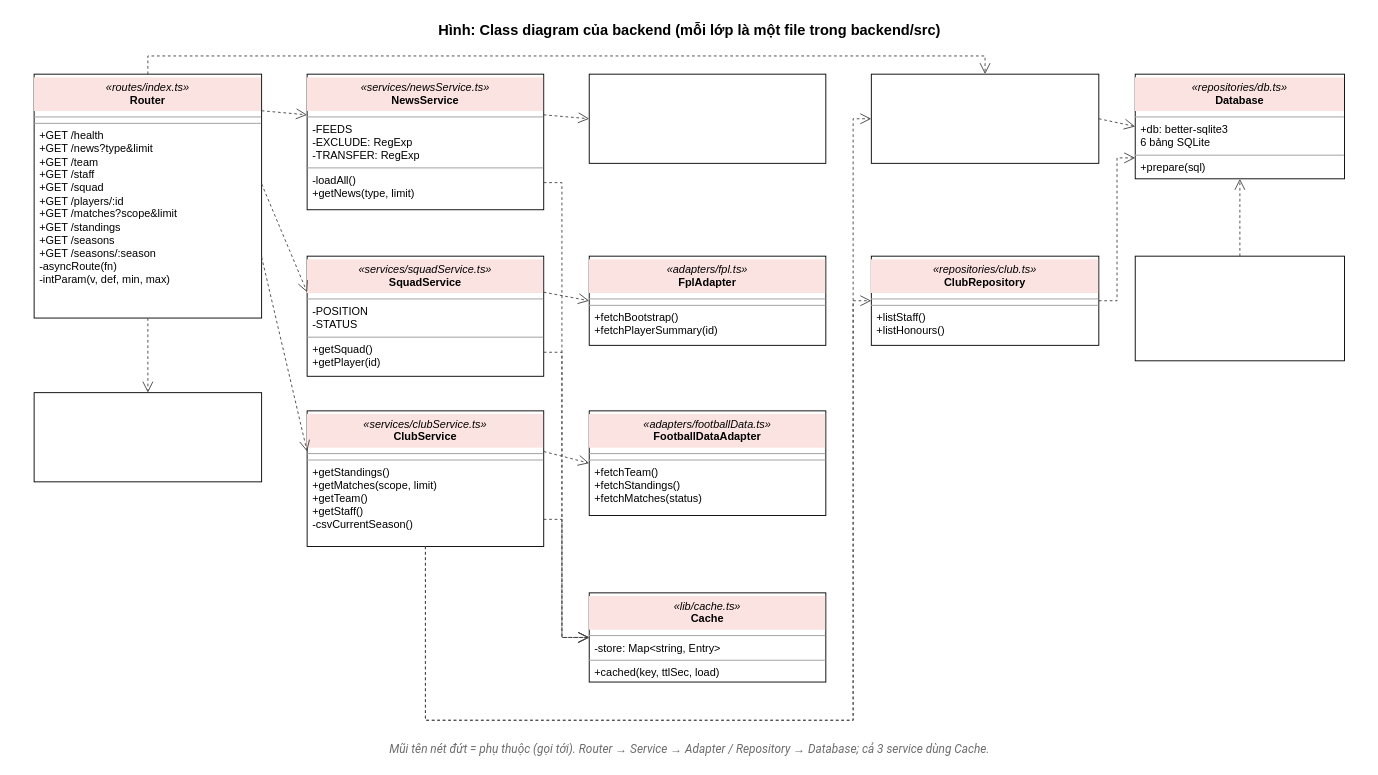
This 1378x775 diagram has some shape labels left out. The box of each missing label's shape, as (x1, y1, x2, y2) in pixels:
«adapters/rss.ts» RssAdapter -parser: XMLParser +fetchFeed(url, source): (588, 73, 826, 163)
«lib/respond.ts» Respond +ok(res, data, message) +fail(res, code, message): (33, 392, 262, 482)
«repositories/seasons.ts» SeasonRepository +listSeasons() +seasonDetail(label): (870, 73, 1099, 163)
«seed/» Seed +seedIfEmpty() +importSeason(startYear) +currentStartYear(): (1134, 255, 1345, 361)
